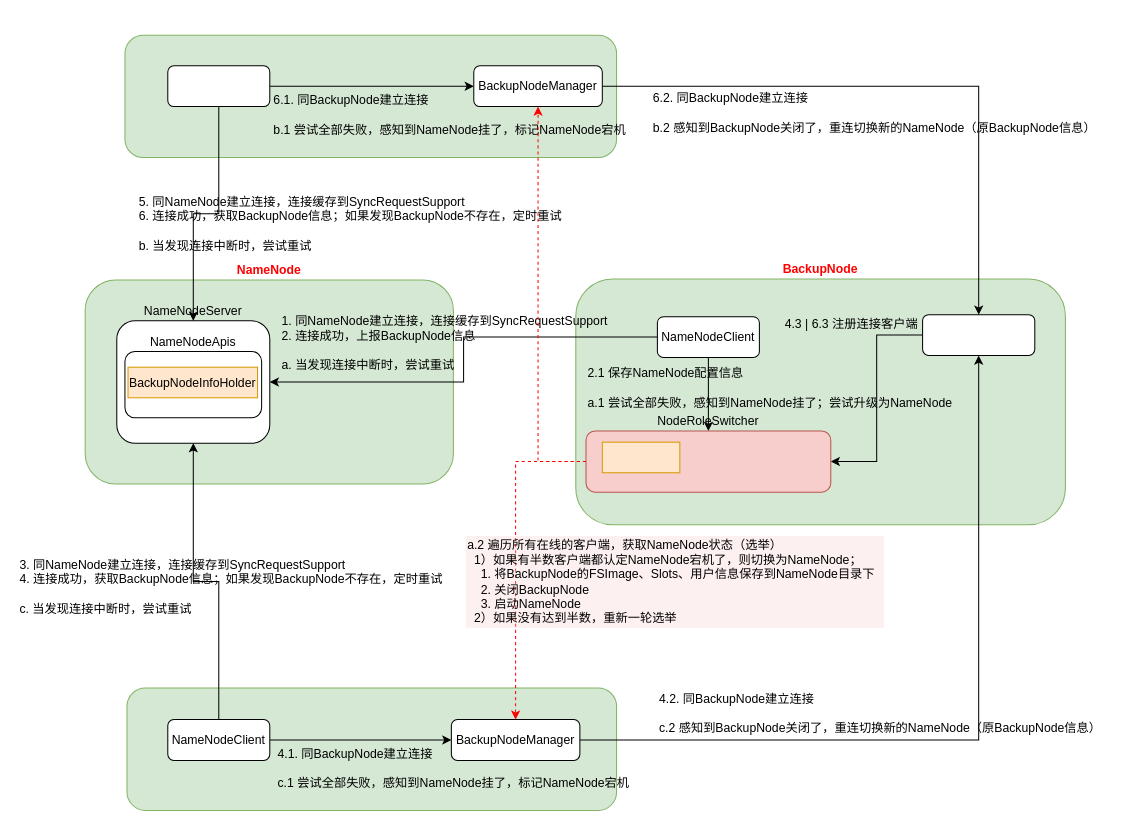
Image size: 1133x828. Some labels were removed from this diagram. The shapes that lost their labels are listed below. From the top down, each one's box as (x1, y1, x2, y2) in pixels, then its label:
(167, 65, 270, 107): FileSystemImpl
(124, 34, 617, 158): Client
(922, 314, 1035, 355): BackupNodeServer
(601, 441, 680, 473): channelMap（客户端）
(126, 687, 617, 810): DataNode
